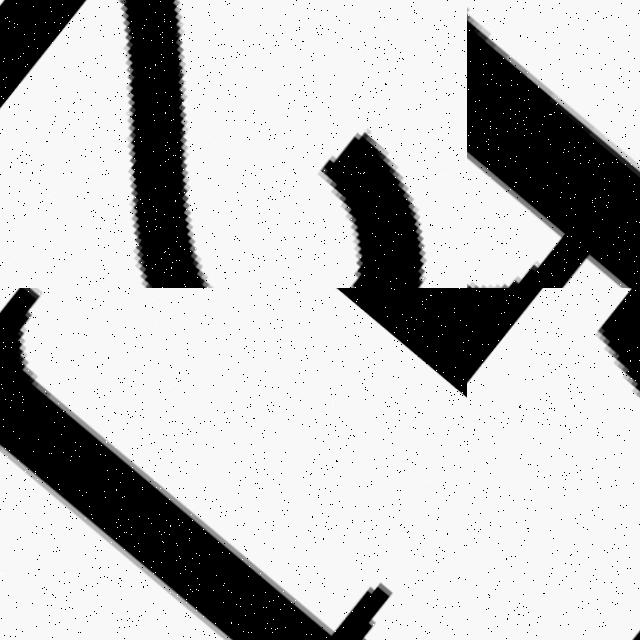1: (0, 288, 444, 640)
2: (0, 0, 467, 288)
F: (467, 288, 640, 640), (467, 9, 640, 288)
